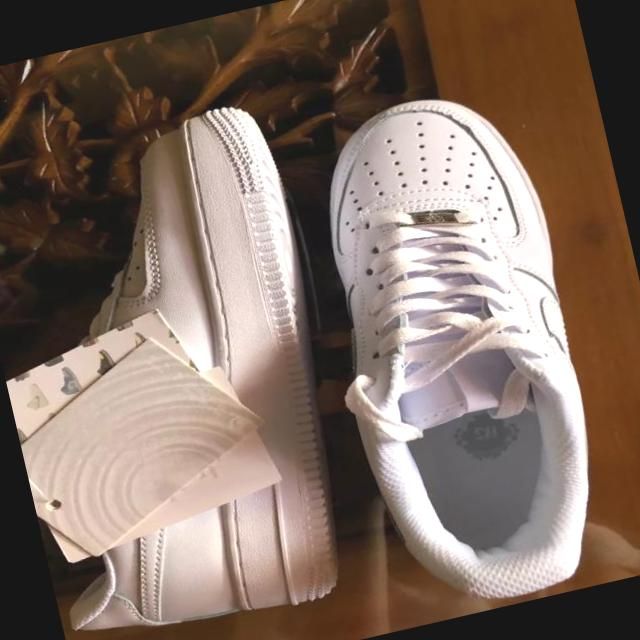nike_fake_airforce: (286, 74, 630, 612)
